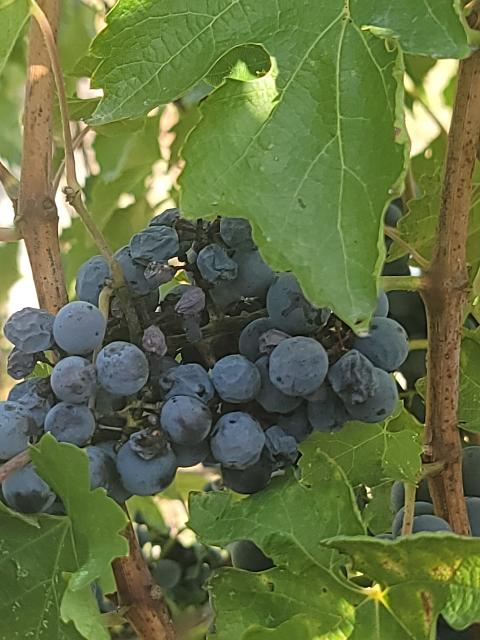grapes: (0, 210, 409, 501)
